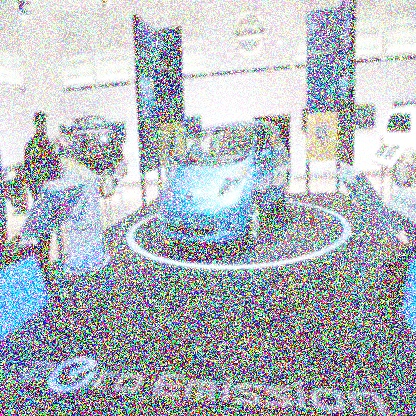Vehicle: (156, 119, 294, 252)
